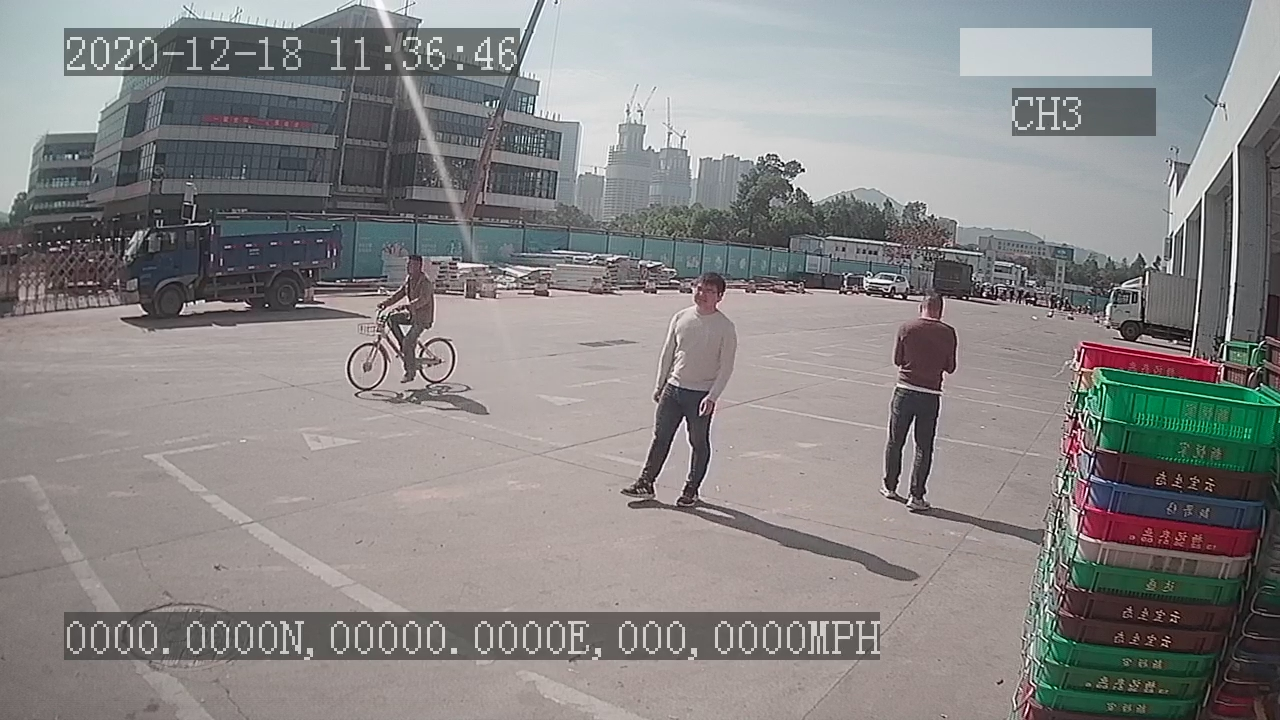person: (620, 262, 741, 507), (875, 289, 958, 517)
